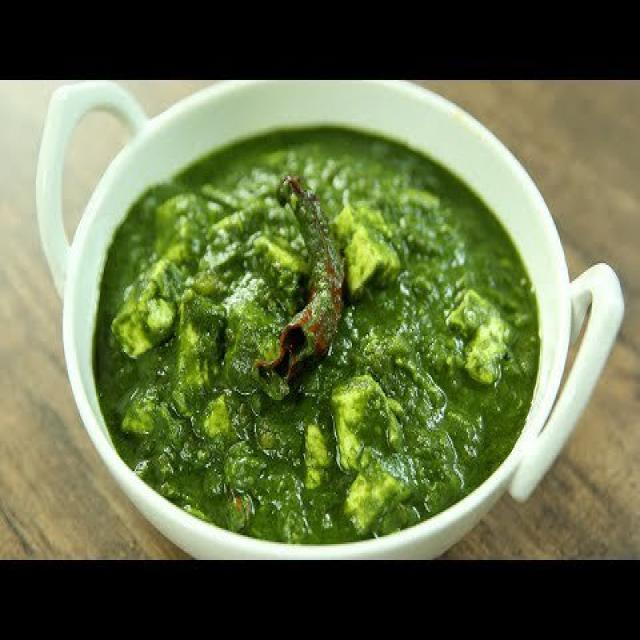Palak Paneer: (91, 121, 544, 546)
